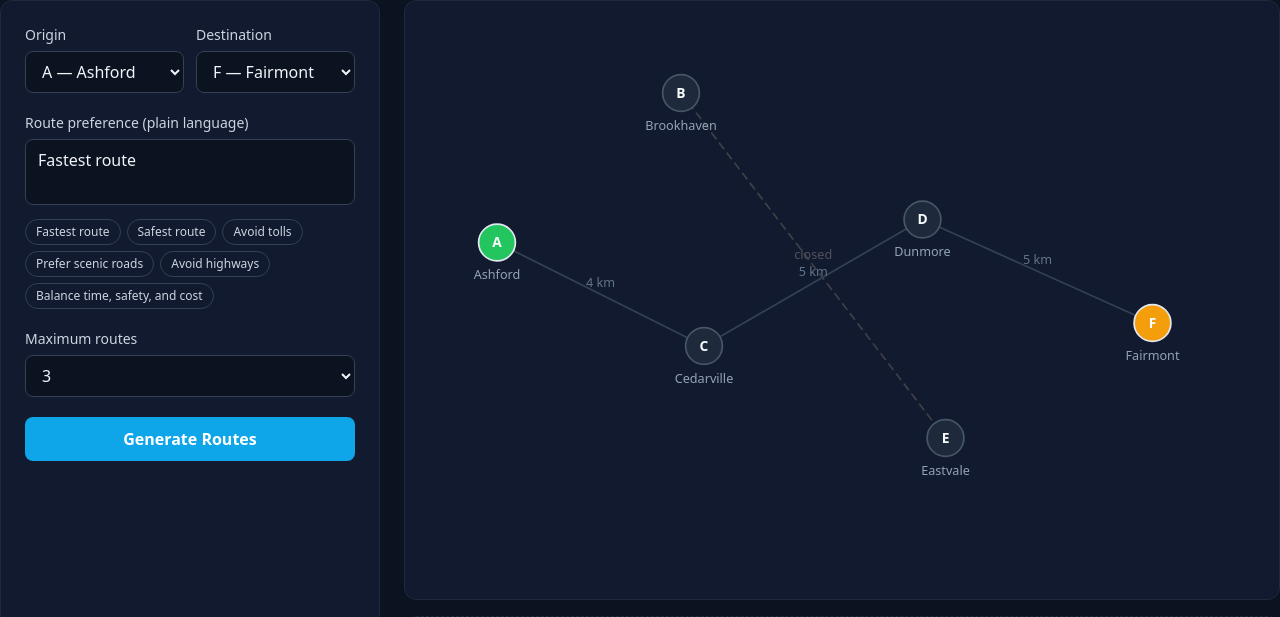
Test case: RoutePlanner › shows the ranking-service-offline fallback notice
Expected: the dropdown labelled "Origin" is shown, x1=25 y1=51 x2=184 y2=93
Click the button "Generate Routes" at (190, 439), box x1=25 y1=417 x2=355 y2=461
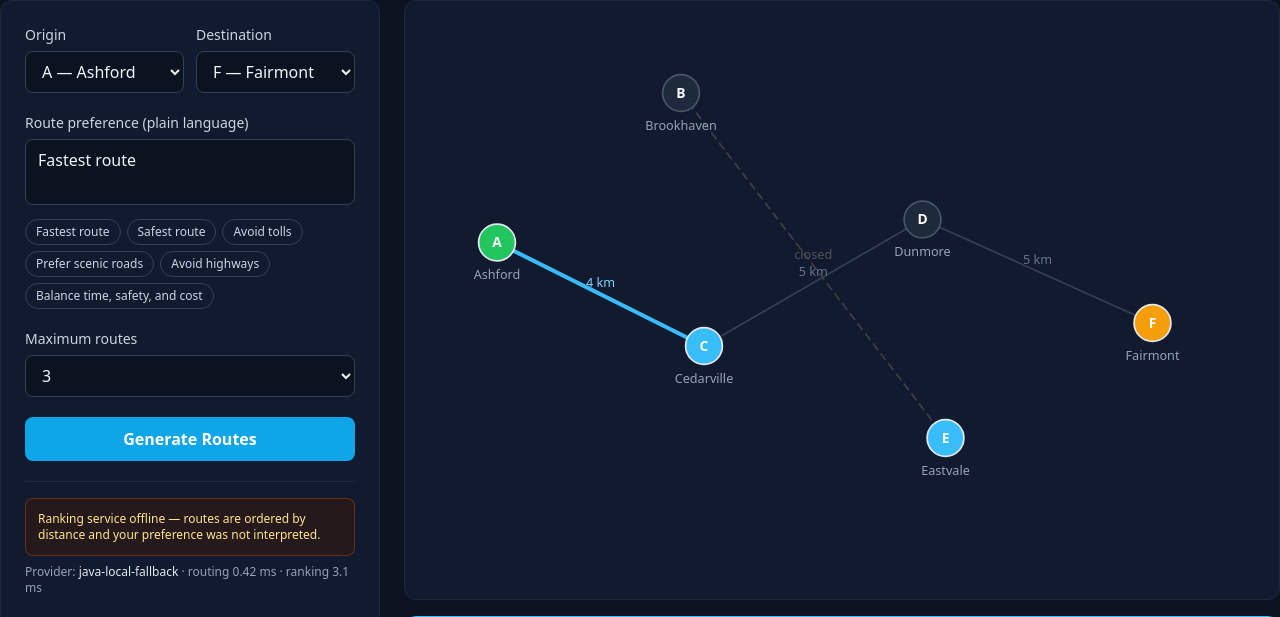
Now the message shows "Ranking service offline", box x1=38 y1=510 x2=320 y2=543
